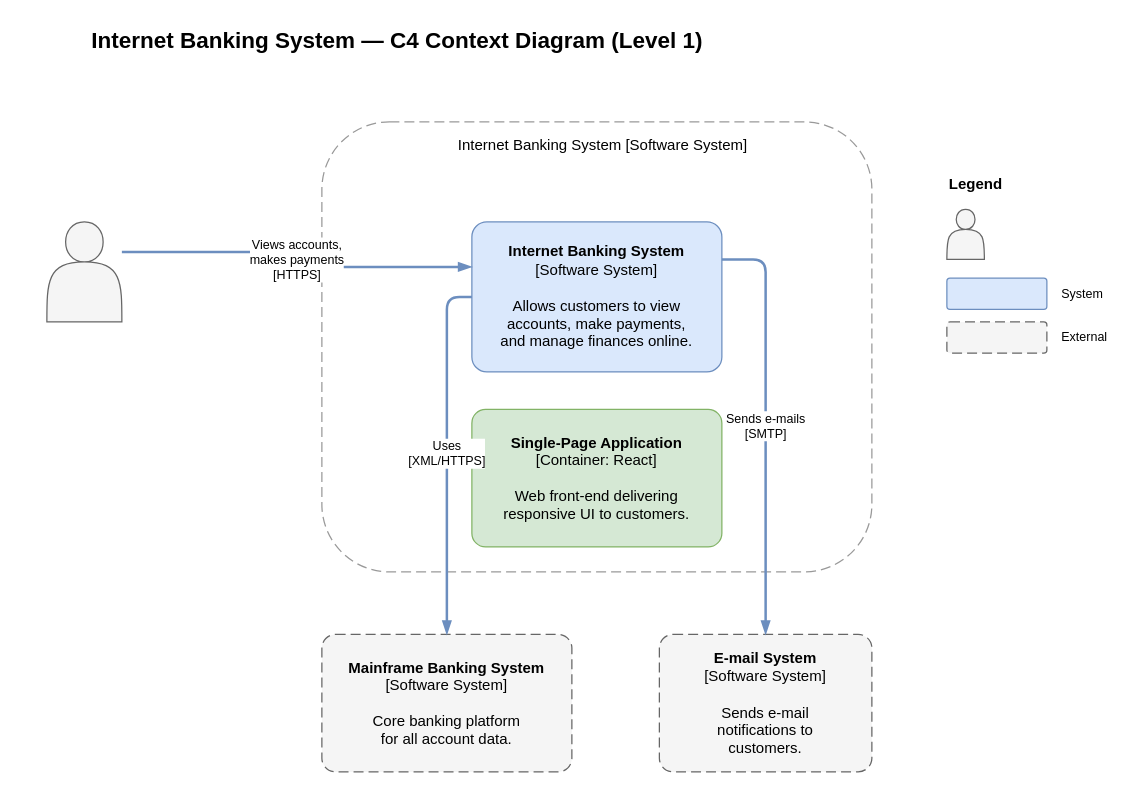
The diagram is 1143 pixels wide and 794 high, and some of its shapes have lost their labels. Here are the shapes that lost their labels. From the top down, the box of each, then its label:
(946, 208, 984, 259): Person
(46, 221, 122, 322): Personal Banking Customer
